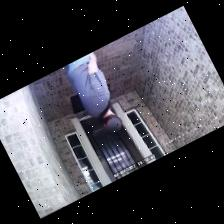person: (65, 52, 121, 130)
